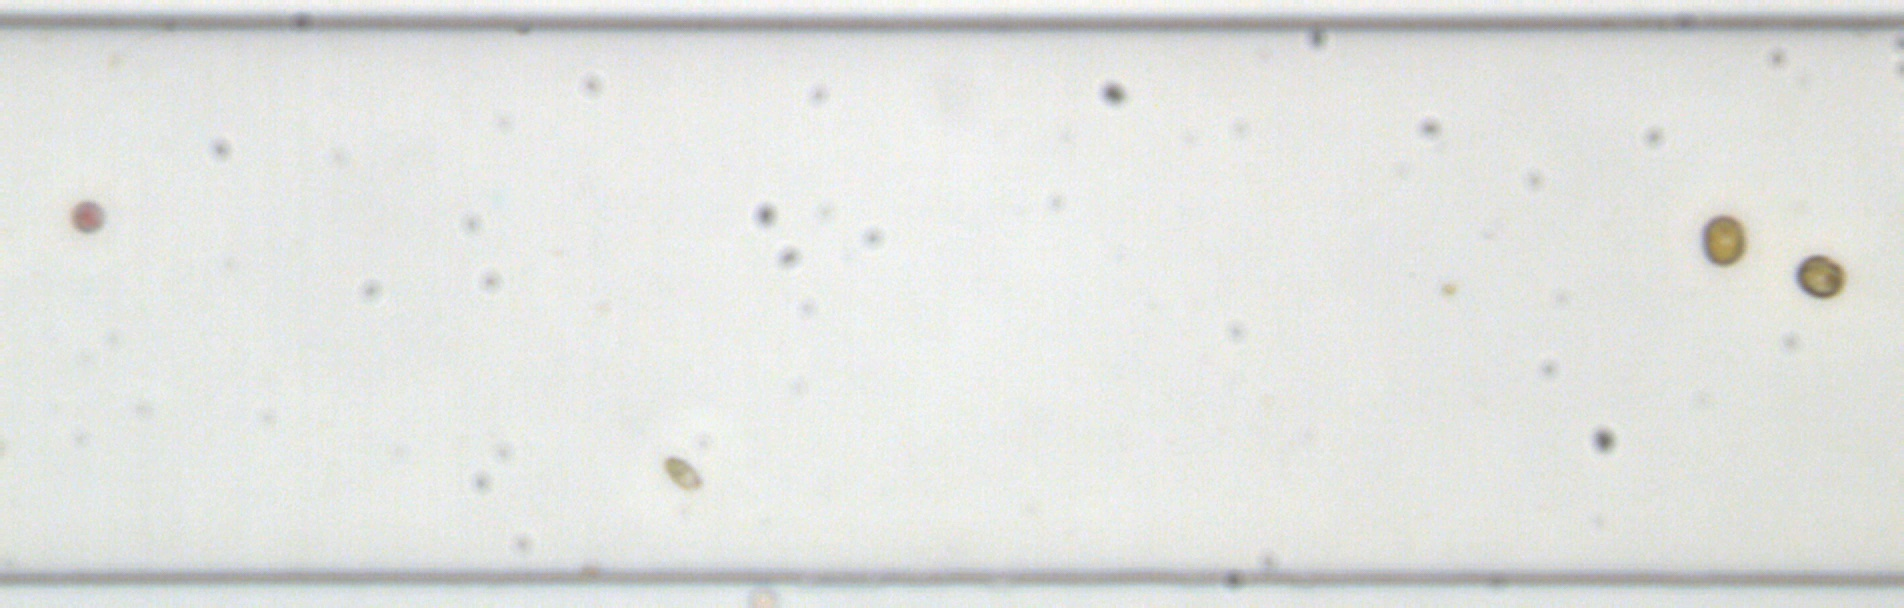Chlorella: (1439, 280, 1457, 297)
Dunaliella salina: (658, 450, 705, 496)
Effrenium: (1698, 211, 1750, 269), (1793, 252, 1846, 300)
Porphyridium: (66, 198, 108, 235)
